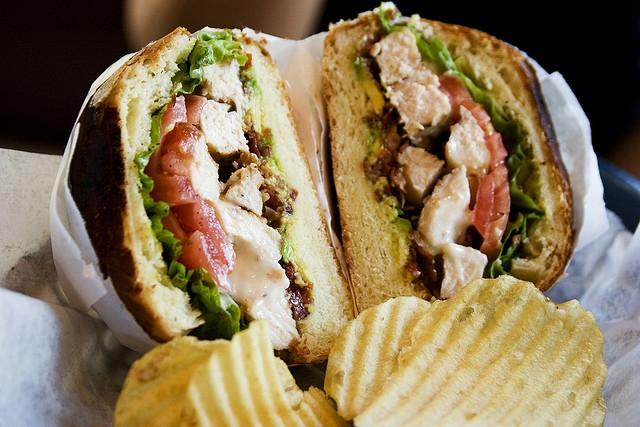lettuce: (377, 5, 544, 278), (133, 103, 241, 340), (170, 29, 249, 97)
tomato: (438, 74, 510, 260), (170, 196, 236, 275), (175, 230, 232, 292), (147, 173, 195, 207), (159, 95, 188, 148)
